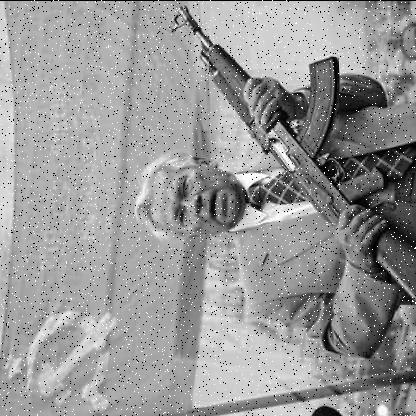rifle: (152, 4, 415, 337)
